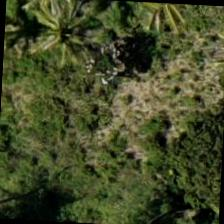Kelapa_Sawit: (12, 0, 108, 89), (96, 0, 190, 57), (123, 167, 218, 223)
